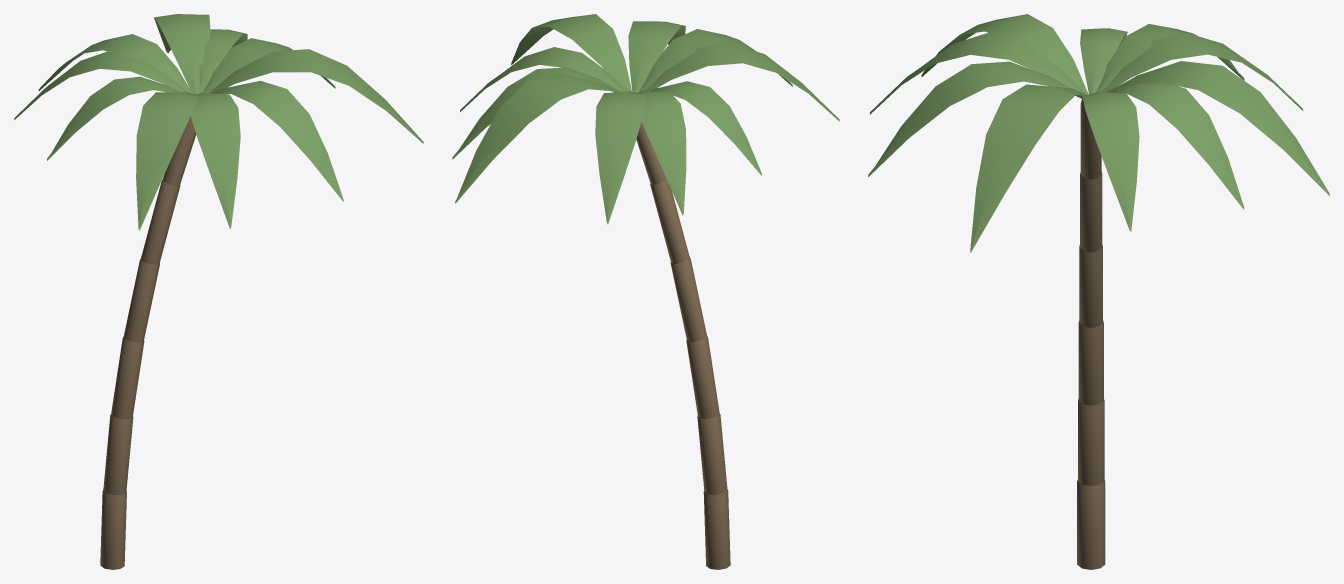
File: palm_tree_variant_03.glb
The picture shows the model from 3 angles, left to right: view 1: azimuth 30°, elevation 25°; view 2: azimuth 150°, elevation 25°; view 3: azimuth 270°, elevation 25°; orthographic projection. The views are drawn at different scales.
Visible parts, largest first — view 1: static_leaf_oak, static_wood; view 2: static_leaf_oak, static_wood; view 3: static_leaf_oak, static_wood.
Part boxes in pixels (bbox=[...]): static_leaf_oak: bbox=[14, 14, 423, 230]; static_wood: bbox=[100, 117, 196, 569]; static_leaf_oak: bbox=[452, 14, 839, 224]; static_wood: bbox=[636, 121, 730, 569]; static_leaf_oak: bbox=[868, 14, 1329, 252]; static_wood: bbox=[1077, 99, 1105, 569].
Size of the model in its own units: 5.25 by 7.75 by 5.82.
